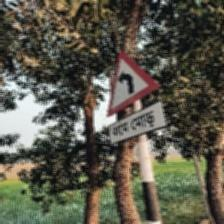Left-Turn: (105, 51, 167, 147)
